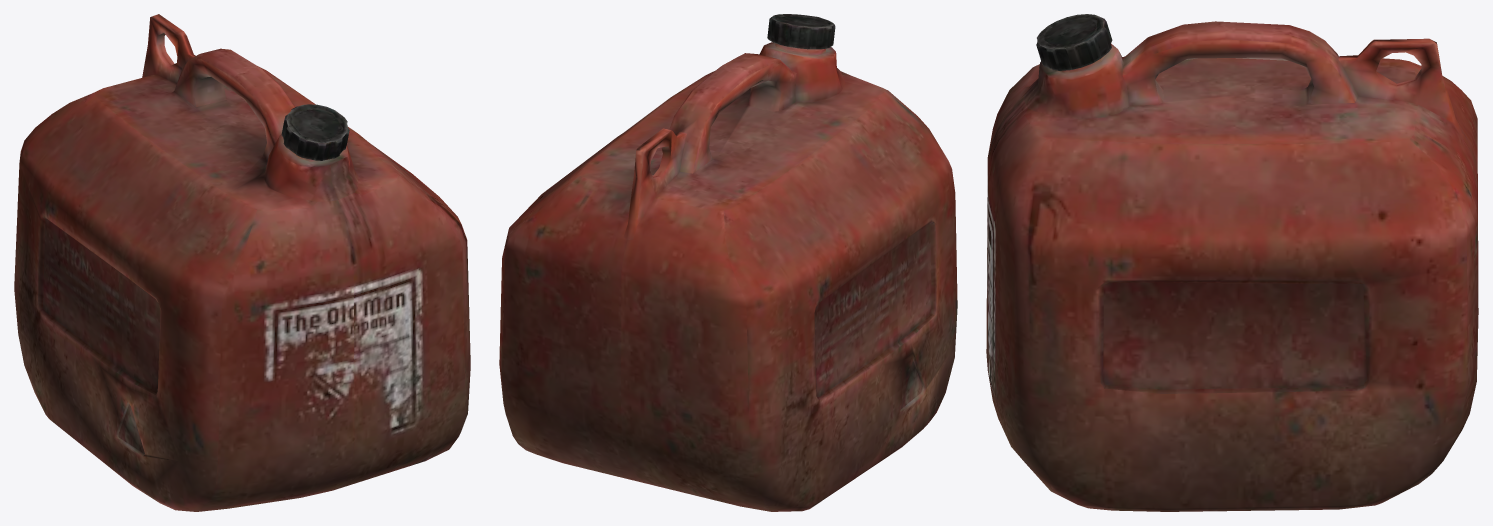
Rendered from jerrycanPlastic.glb.
The picture shows the model from 3 angles, left to right: view 1: azimuth 30°, elevation 25°; view 2: azimuth 150°, elevation 25°; view 3: azimuth 270°, elevation 25°; orthographic projection. The views are drawn at different scales.
Parts seen in each view (by area): view 1: plastic_jerrycan; view 2: plastic_jerrycan; view 3: plastic_jerrycan.
Part boxes in pixels (<box>): plastic_jerrycan: <box>14,14,470,511</box>; plastic_jerrycan: <box>499,14,957,511</box>; plastic_jerrycan: <box>986,14,1478,511</box>.
Bounding box in the file's own units: 0.2678 × 0.318 × 0.3404.
Materials: 1 (1 with a texture image).
